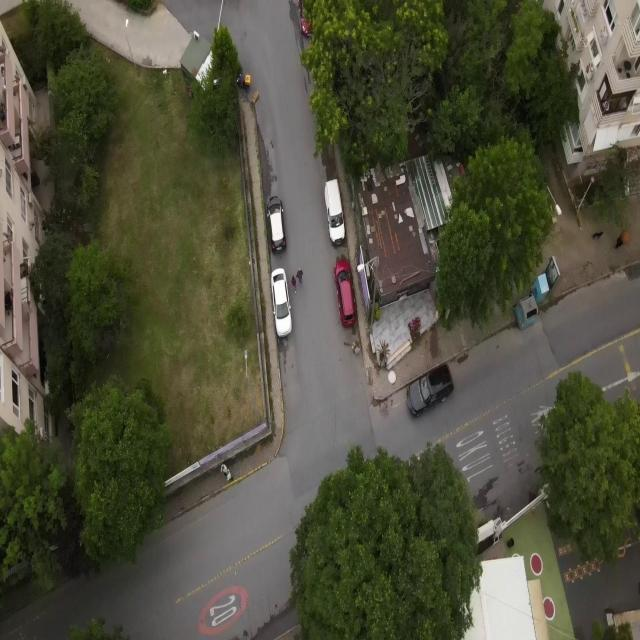p3rson: (614, 234, 623, 250), (296, 267, 303, 287), (291, 274, 297, 294), (226, 468, 234, 482), (220, 463, 227, 476)
